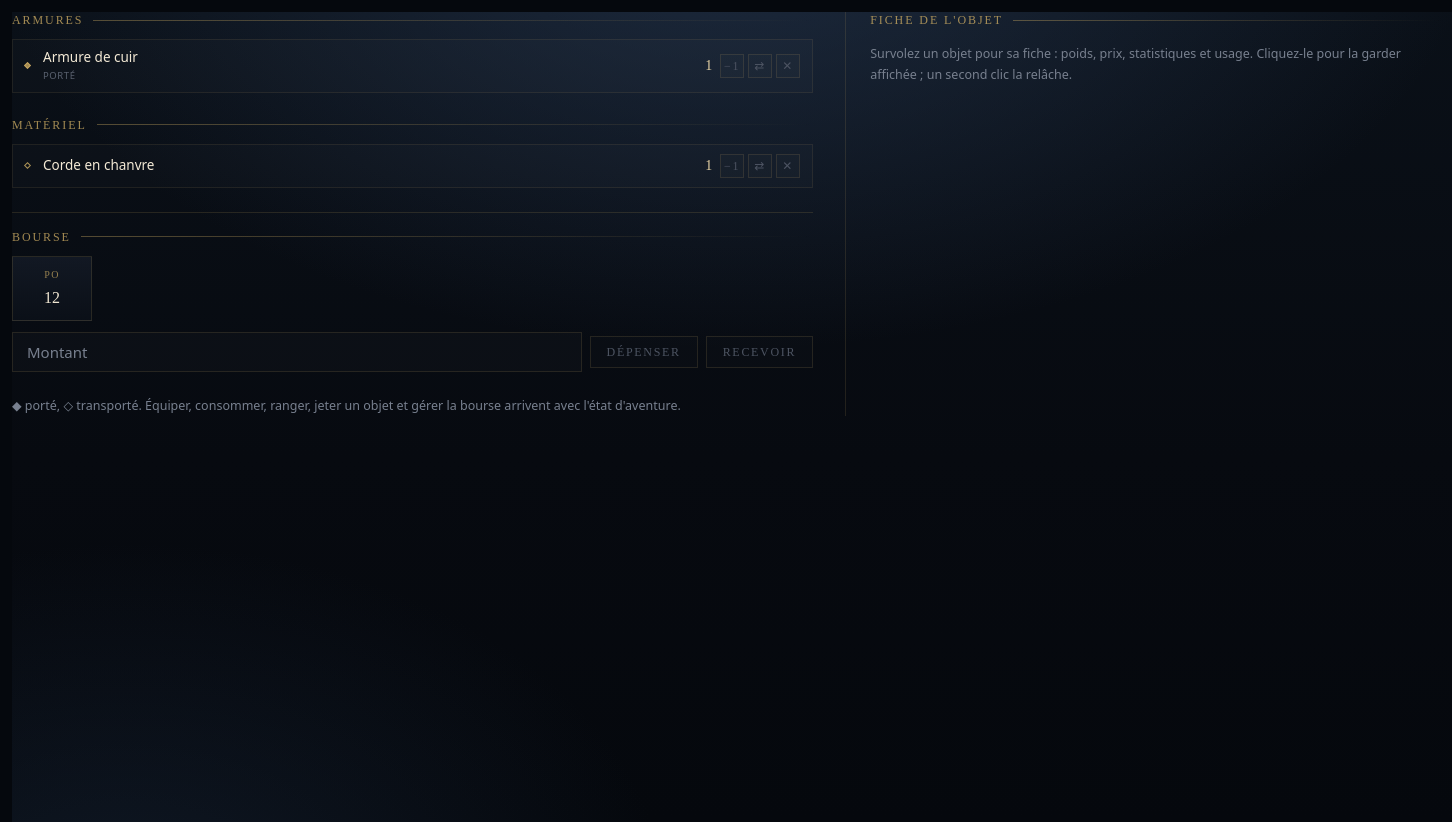
GearTabView › montre la fiche d'un objet survolé et garde celle d'un objet cliqué
The image size is (1452, 822).
Click the button "Armure de cuir Porté": (90, 57) [43,49,666,83]
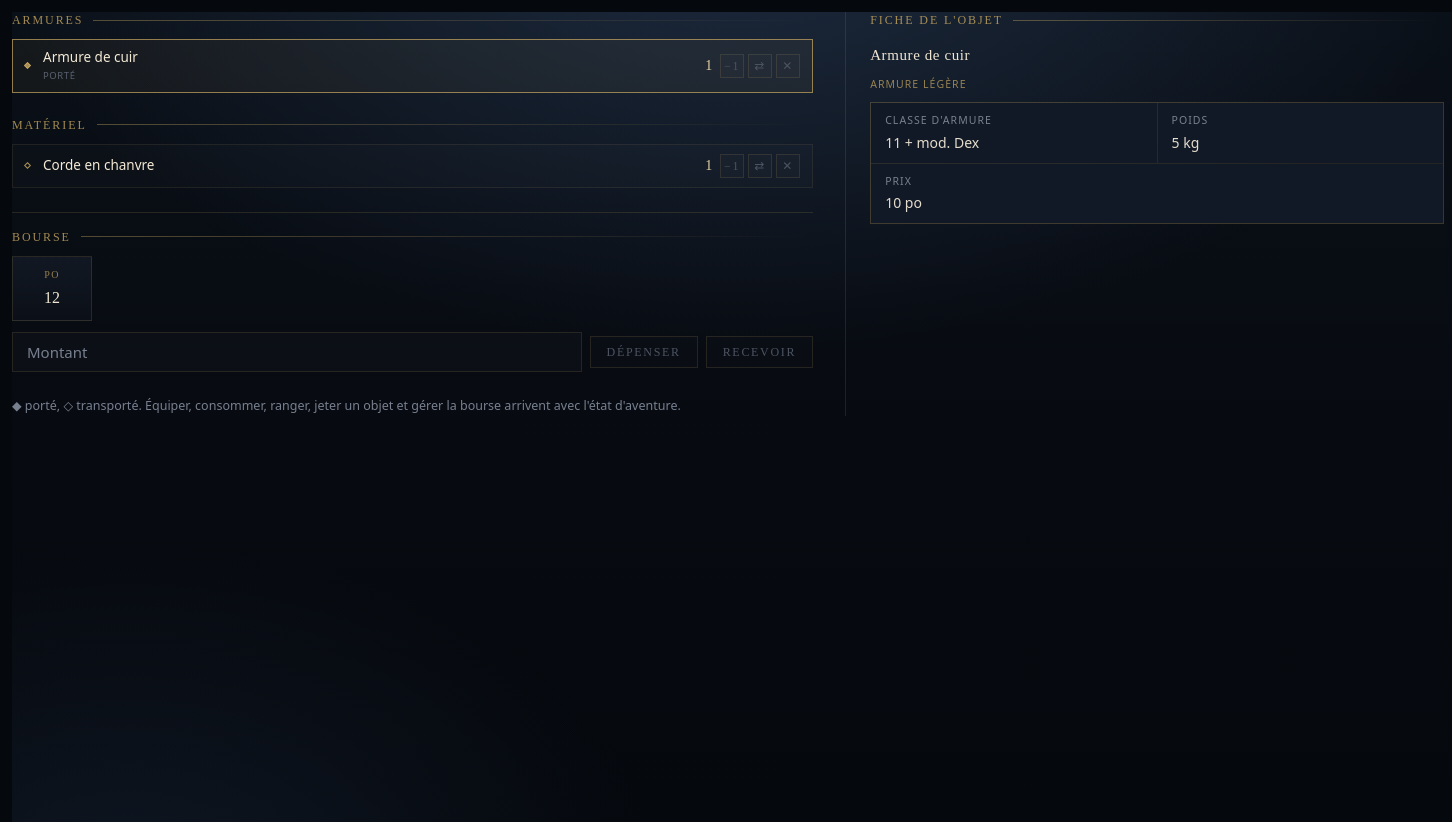
Hover over the list item "Corde en chanvre": (413, 166) [12,144,813,188]
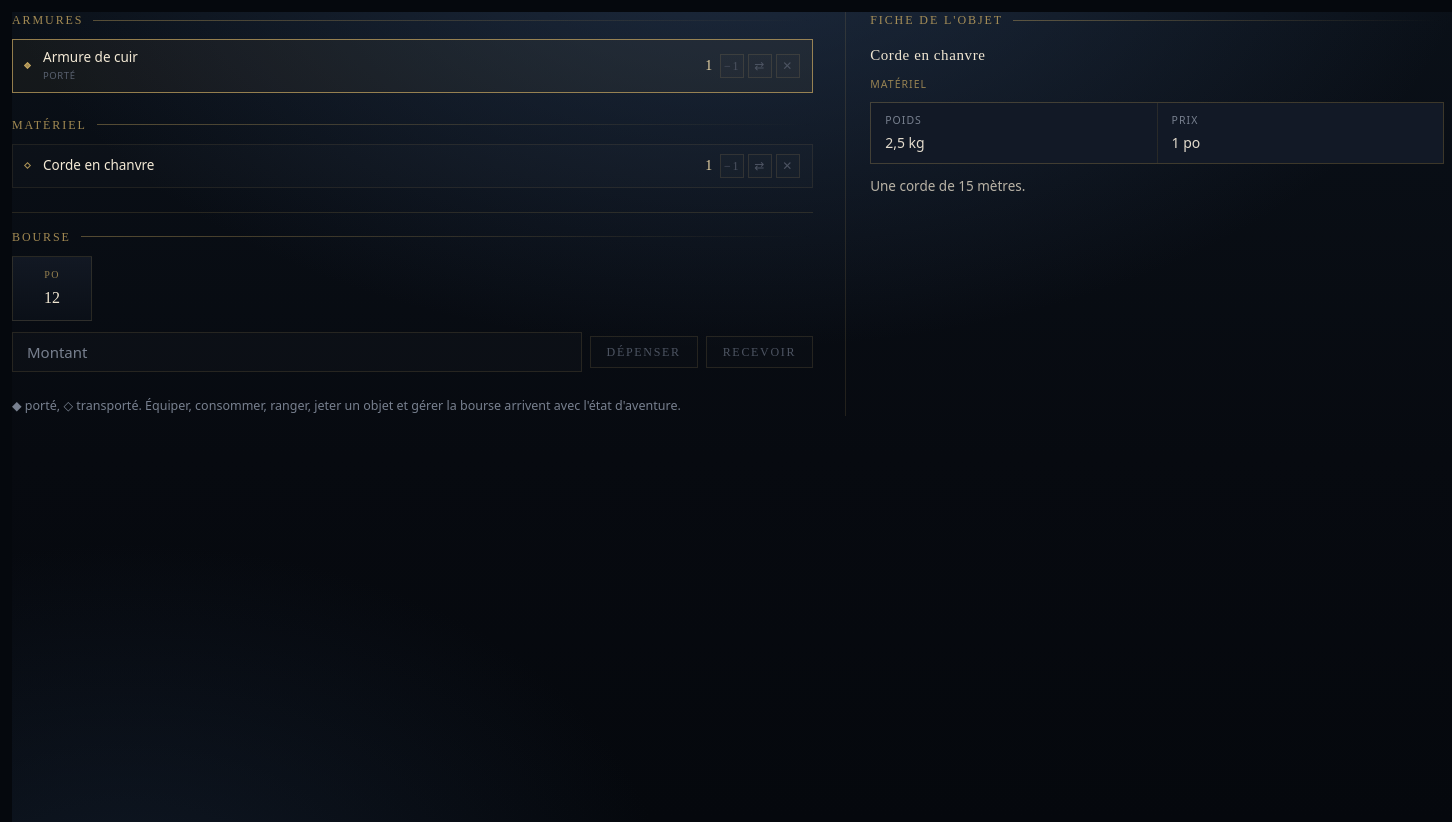
Expected: the text "Une corde de 15 mètres." is shown, [870,177,1025,195]
Expected: the text "2,5 kg" is shown, [885,133,925,152]
Move the pointer off the list item "Corde en chanvre", box [12,144,813,188]
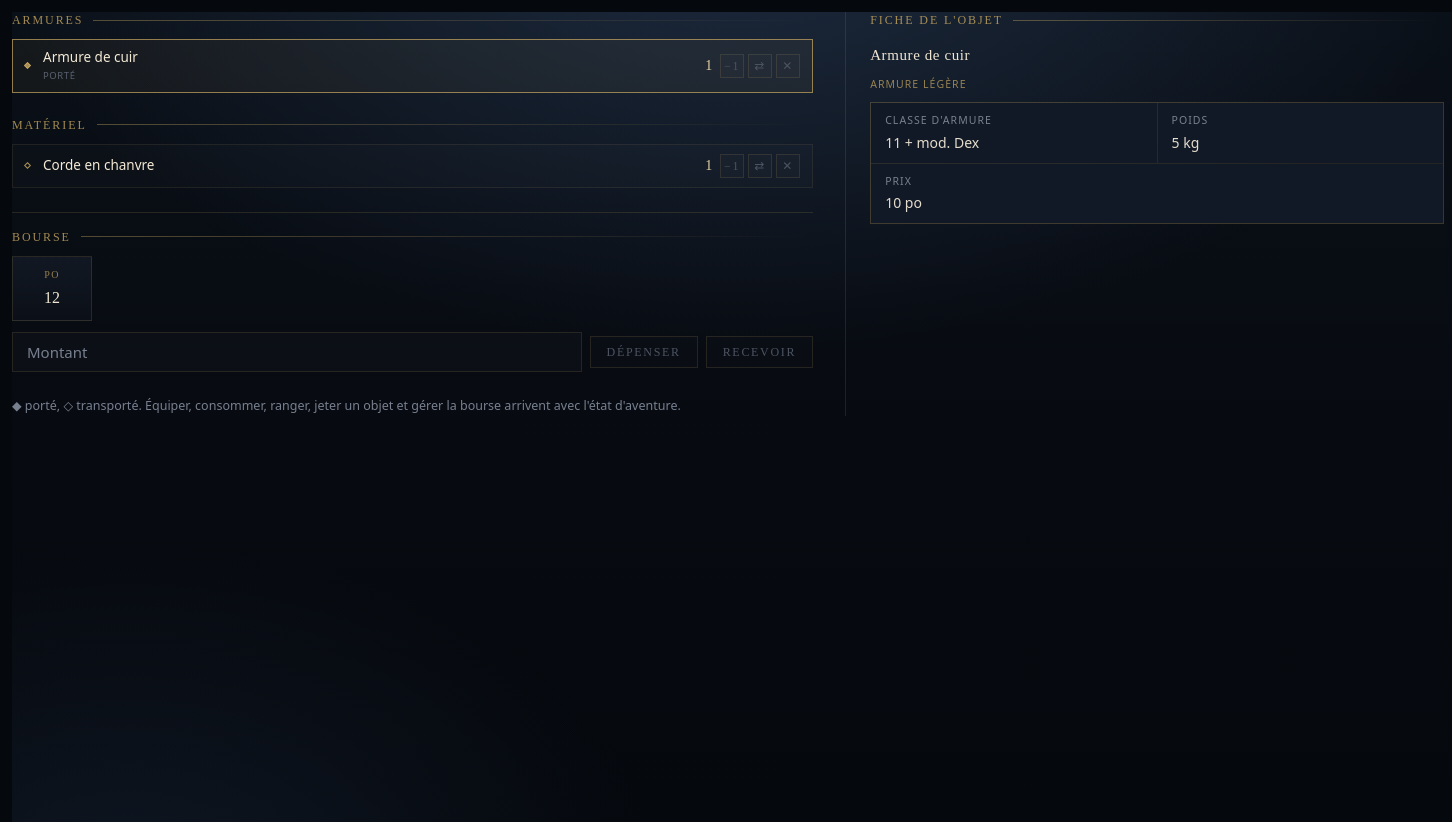
Expected: the text "Armure légère" is shown, [870,76,966,90]
Expected: the text "11 + mod. Dex" is shown, [885,133,979,152]
Expected: the text "10 po" is shown, [885,193,922,212]
